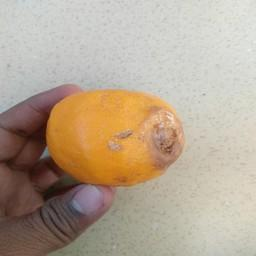Bad_orange: (45, 83, 187, 192)
